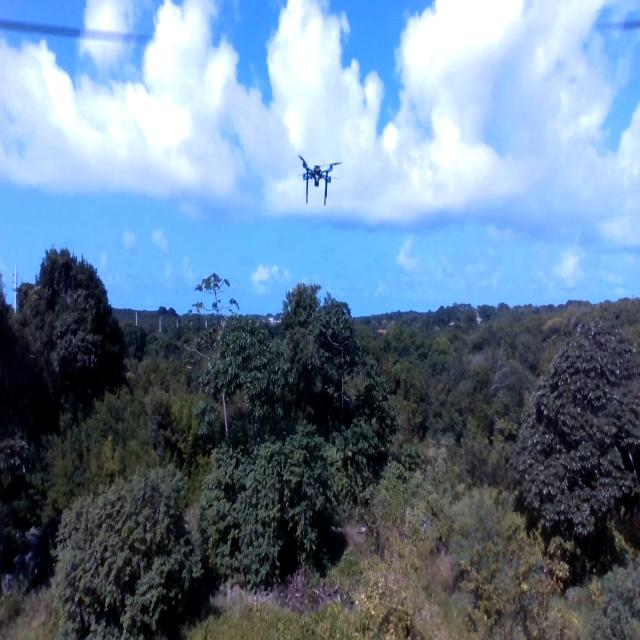-uav-: (290, 130, 349, 232)
